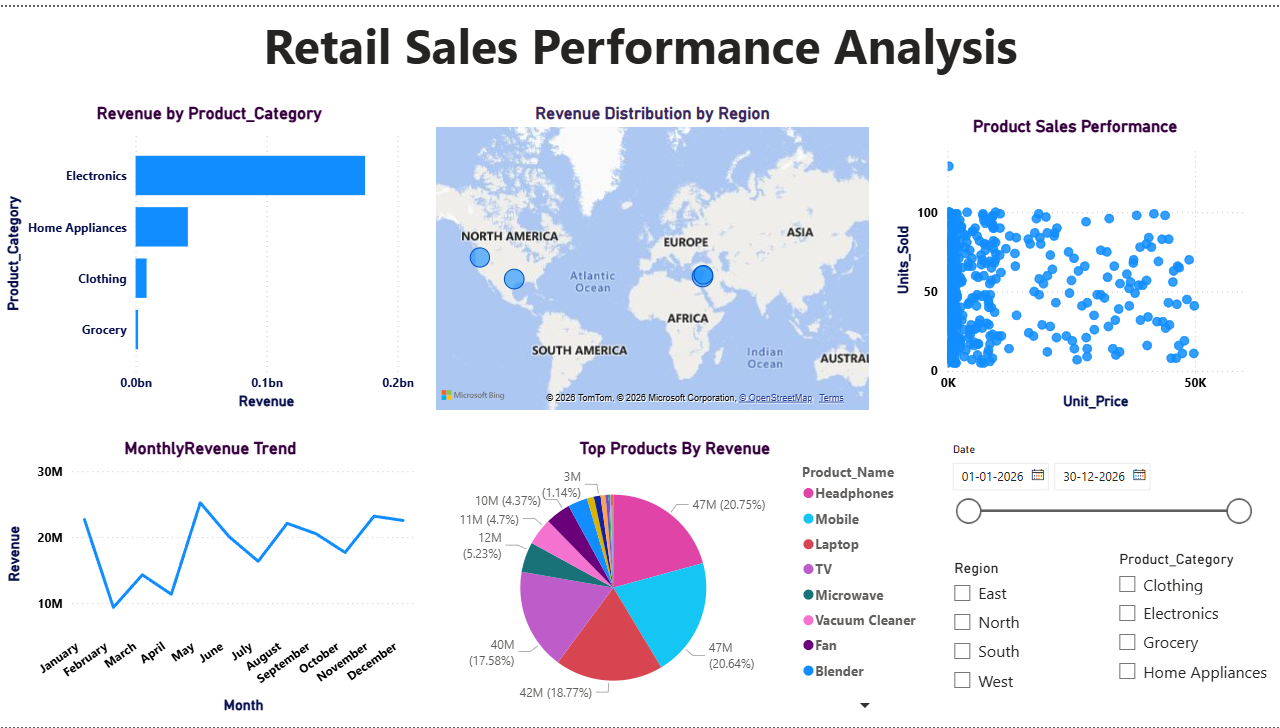

Layout of this report page (visuals, bound fields, positions):
{"tool":"powerbi","page":{"name":"Page 1","canvas":[1280,720],"ordinal":0},"visuals":[{"type":"clusteredBarChart","title":"Revenue by Product_Category","fields":{"Category":["retail_sales.Product_Category"],"Y":["Sum(retail_sales.Revenue)"]},"box":[0,96.2,418.8,311.2],"z":0},{"type":"lineChart","title":"MonthlyRevenue Trend","fields":{"Y":["Sum(retail_sales.Revenue)"],"Category":["retail_sales.Date.Variation.Date Hierarchy.Month"]},"box":[1.4,430.9,418.5,279.9],"z":1000},{"type":"pieChart","title":"Top Products By Revenue","fields":{"Category":["retail_sales.Product_Name"],"Y":["Sum(retail_sales.Revenue)"]},"box":[420,431.2,510,280],"z":2000},{"type":"map","title":"Revenue  Distribution by Region","fields":{"Category":["retail_sales.Region"],"Size":["CountNonNull(retail_sales.Revenue)"]},"box":[431.2,96.2,442.5,311.2],"z":3000},{"type":"slicer","fields":{"Values":["retail_sales.Product_Category"]},"box":[1106.2,538.8,173.8,148.8],"z":4000},{"type":"slicer","fields":{"Values":["retail_sales.Region"]},"box":[941.2,547.5,135,148.8],"z":5000},{"type":"slicer","fields":{"Values":["retail_sales.Date"]},"box":[940,431.2,320,107.5],"z":6000},{"type":"scatterChart","title":"Product Sales Performance","fields":{"Category":["retail_sales.Revenue"],"X":["Sum(retail_sales.Unit_Price)"],"Y":["Sum(retail_sales.Units_Sold)"]},"box":[890.6,108.4,370.5,299.1],"z":7000},{"type":"textbox","box":[1.2,0,1278.8,80],"z":7001}]}

Visuals, with their boxes in screenshot pixels (x1, y1, x2, y2), scaled from the page's 1280x720 canvas onto the 1280x728 screenshot:
"Revenue by Product_Category" clusteredBarChart: [x1=0, y1=97, x2=419, y2=412]
"MonthlyRevenue Trend" lineChart: [x1=1, y1=436, x2=420, y2=719]
"Top Products By Revenue" pieChart: [x1=420, y1=436, x2=930, y2=719]
"Revenue  Distribution by Region" map: [x1=431, y1=97, x2=874, y2=412]
slicer - retail_sales.Product_Category: [x1=1106, y1=545, x2=1279, y2=695]
slicer - retail_sales.Region: [x1=941, y1=554, x2=1076, y2=704]
slicer - retail_sales.Date: [x1=940, y1=436, x2=1260, y2=545]
"Product Sales Performance" scatterChart: [x1=891, y1=110, x2=1261, y2=412]
textbox: [x1=1, y1=0, x2=1279, y2=81]
